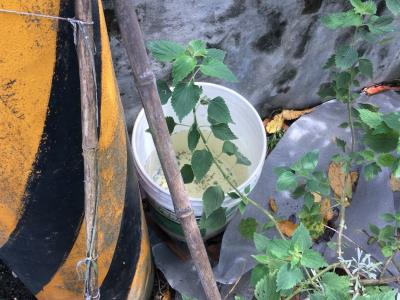bucket: (131, 75, 270, 246)
